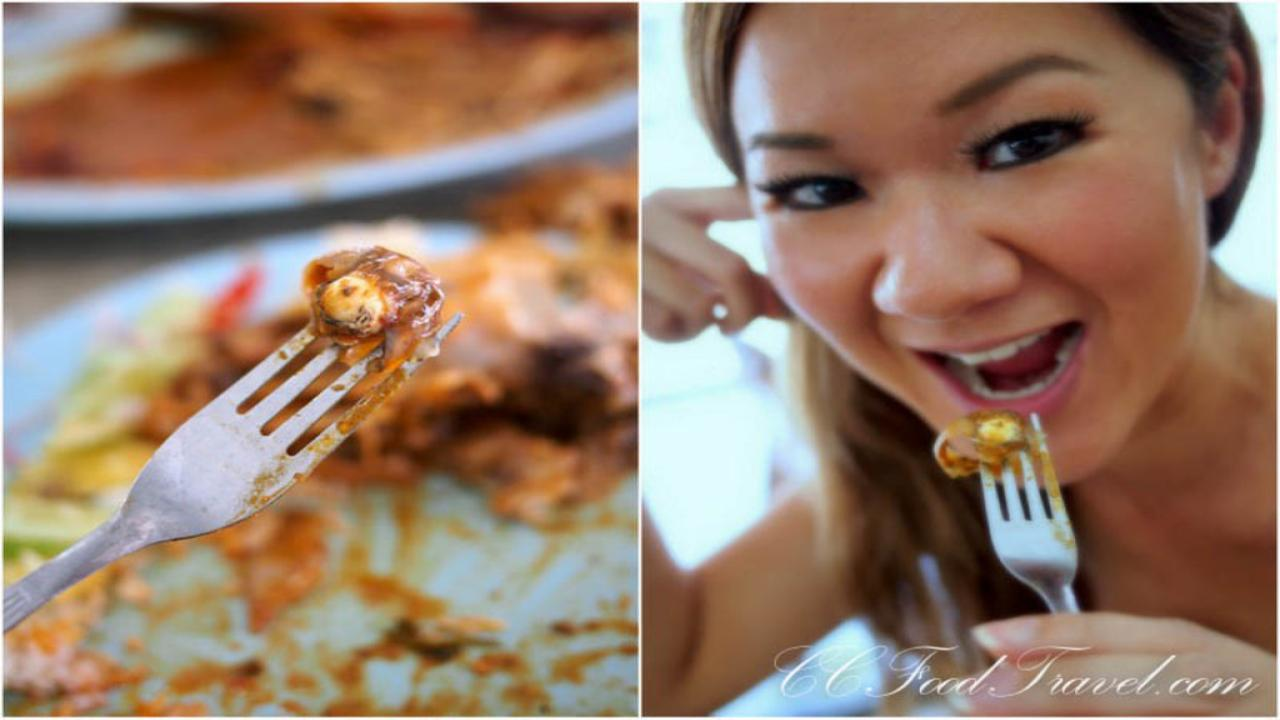fork: (1, 294, 470, 644), (966, 410, 1085, 619)
